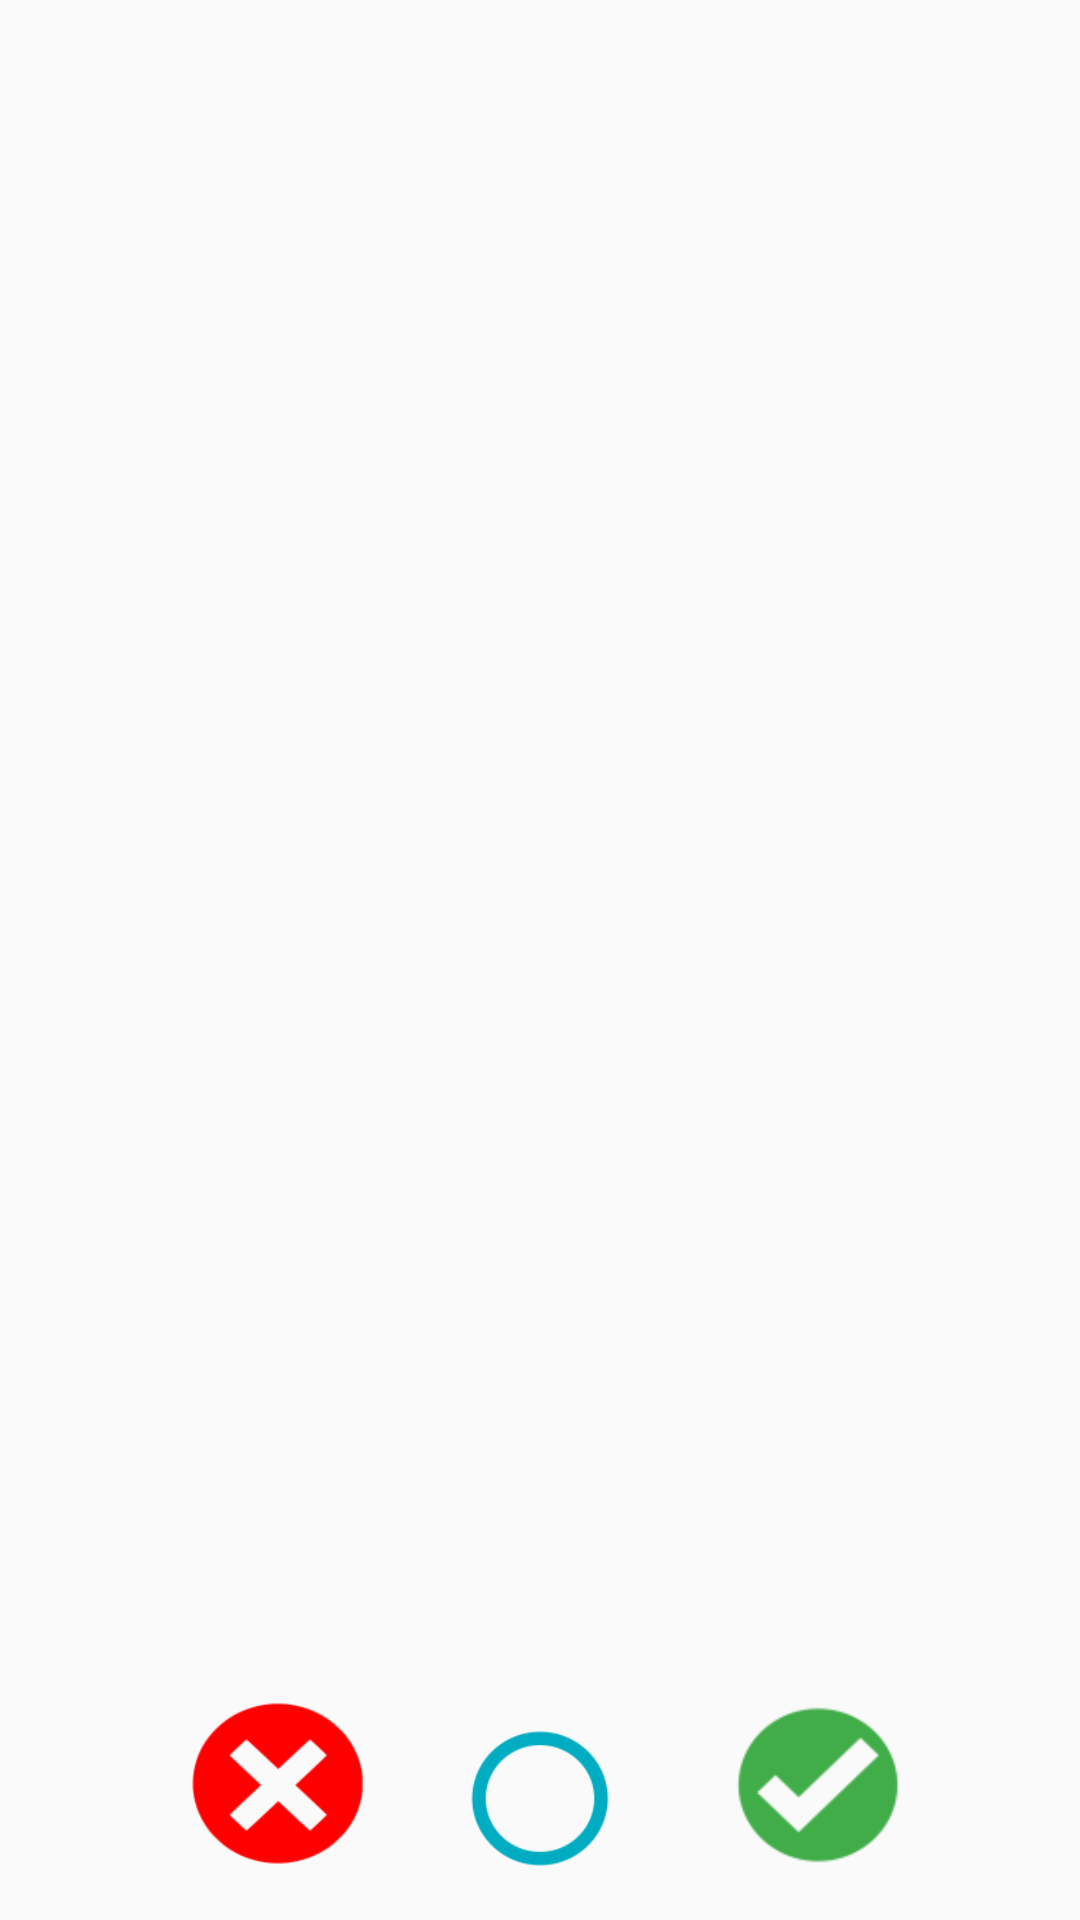

Where to tap for icons on this 1080 × 1920 app screen, as (x=x, y=y):
camera take pic: (x=540, y=1798)
tick: (x=818, y=1785)
